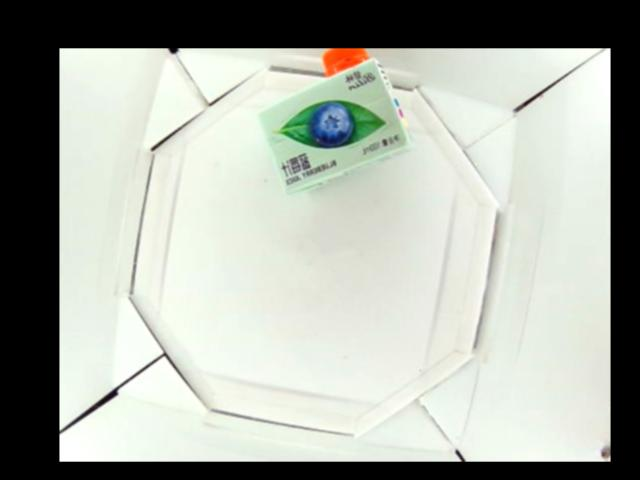Bottle: (256, 49, 409, 196)
